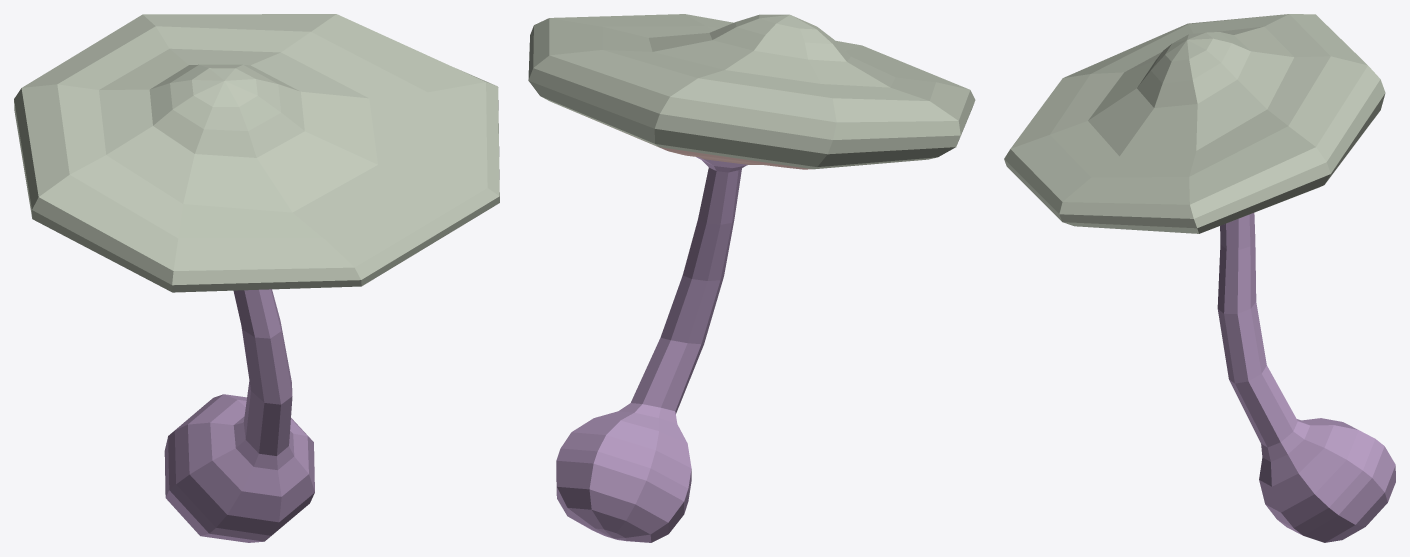
File: Tree_15_Var_07.fbx
3 views of the same model, side by side, from view 1: azimuth 30°, elevation 25°; view 2: azimuth 150°, elevation 25°; view 3: azimuth 270°, elevation 25° (orthographic). The views are drawn at different scales.
Visible parts, largest first — view 1: Tree_15_Var_07; view 2: Tree_15_Var_07; view 3: Tree_15_Var_07.
Part boxes in pixels (bbox=[...]): Tree_15_Var_07: bbox=[14, 14, 499, 542]; Tree_15_Var_07: bbox=[528, 14, 975, 542]; Tree_15_Var_07: bbox=[1004, 14, 1395, 542].
Size of the model in its own units: 5.29 by 6.81 by 6.2.
